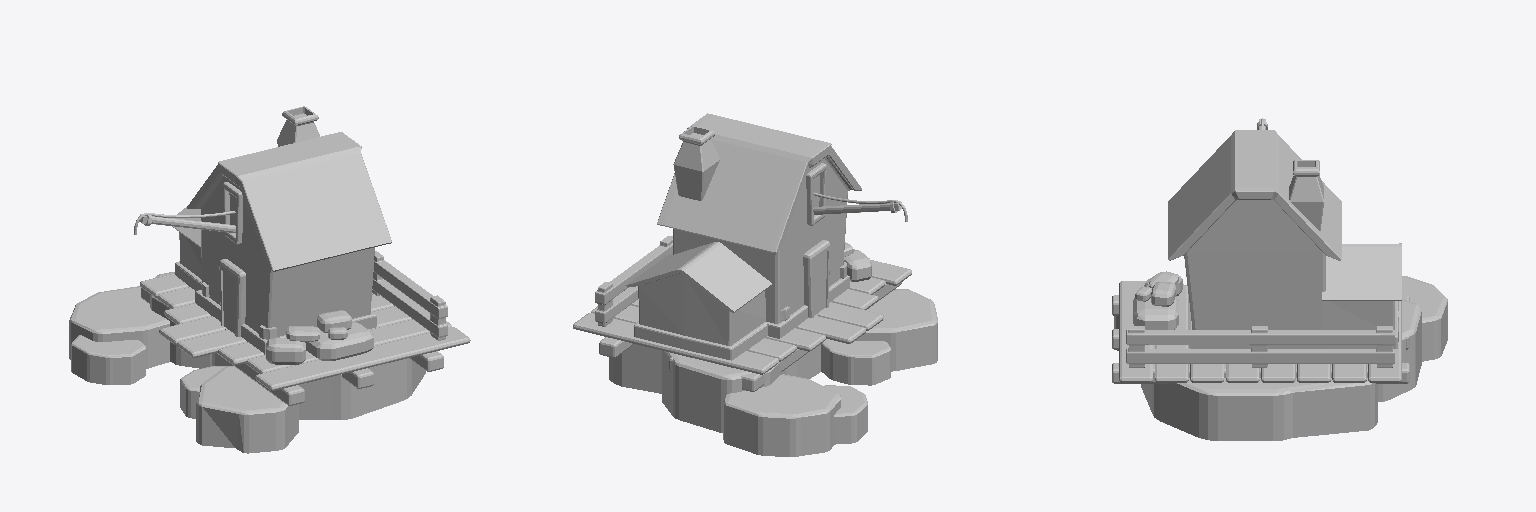
File: SM_carriere_v02.obj
3 views of the same model, side by side, from view 1: azimuth 30°, elevation 25°; view 2: azimuth 150°, elevation 25°; view 3: azimuth 270°, elevation 25° (orthographic).
Parts seen in each view (by area): view 1: SM_carriere_v02; view 2: SM_carriere_v02; view 3: SM_carriere_v02.
Part boxes in pixels (x1,y1,x2,y2): SM_carriere_v02: (69, 106, 470, 453); SM_carriere_v02: (573, 113, 937, 456); SM_carriere_v02: (1112, 118, 1447, 440).
Size of the model in its own units: 6.14 by 5.13 by 6.54.